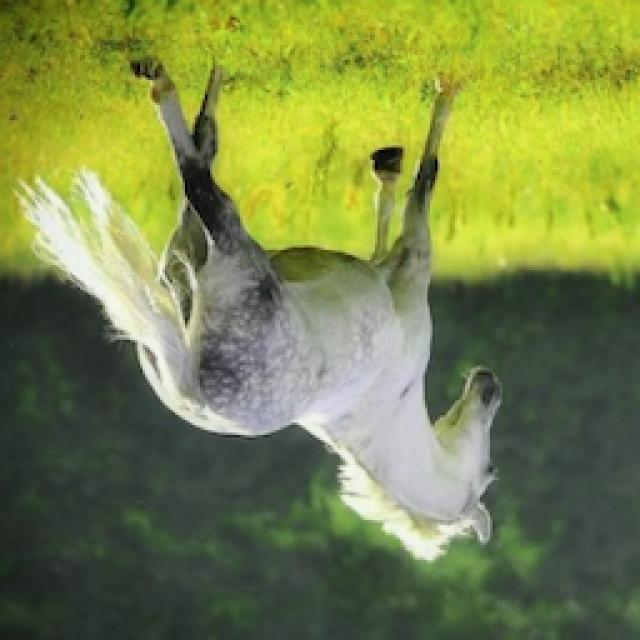Horse: (10, 50, 512, 568)
